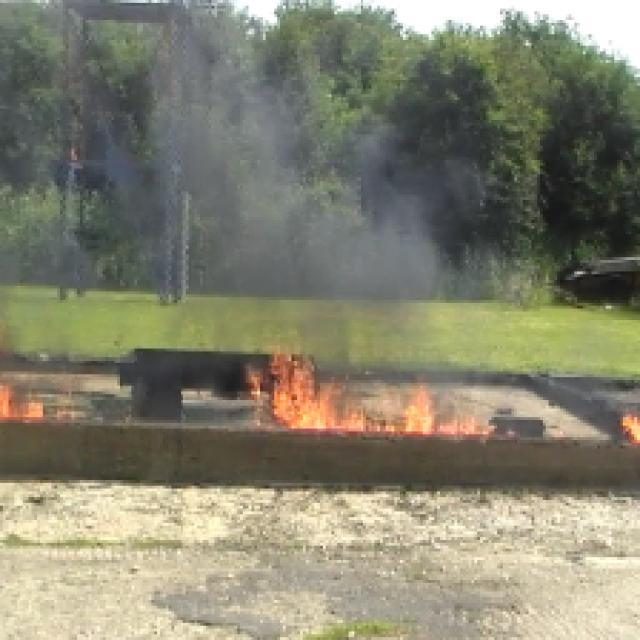Fire: (244, 356, 491, 435)
Smoke: (142, 48, 486, 346)
